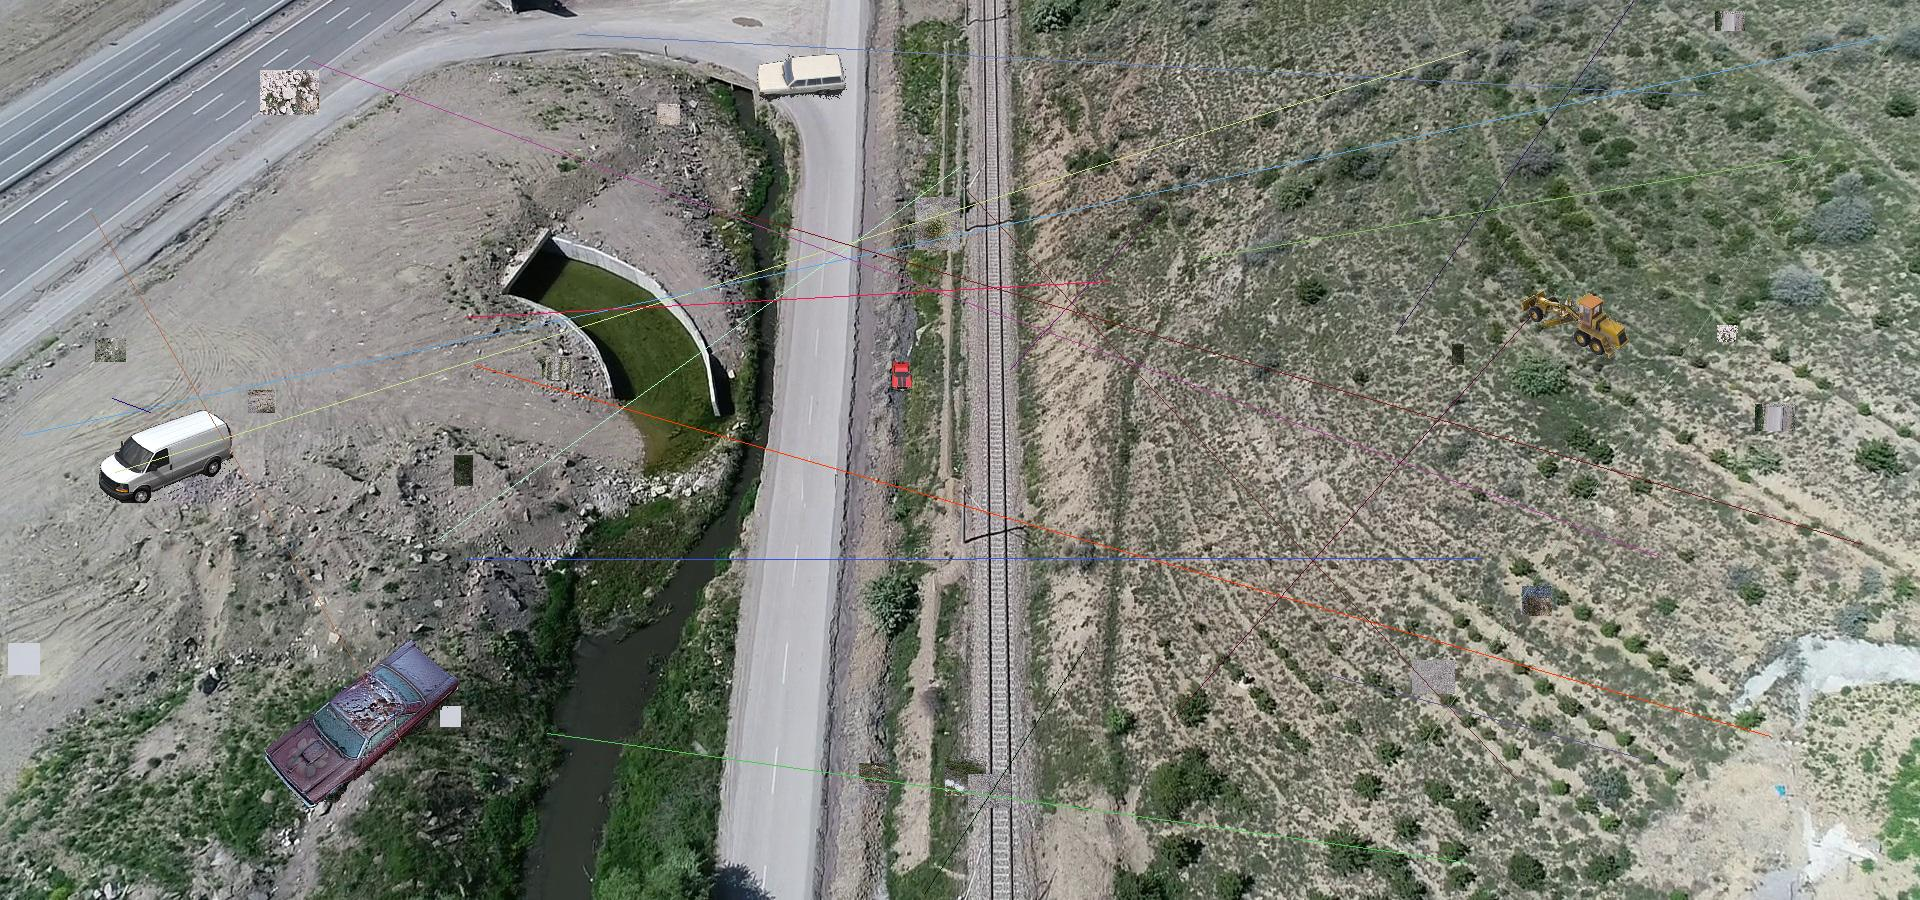arac: (264, 636, 460, 808), (99, 410, 233, 503), (1520, 287, 1633, 360), (756, 54, 847, 100), (890, 361, 913, 393)
